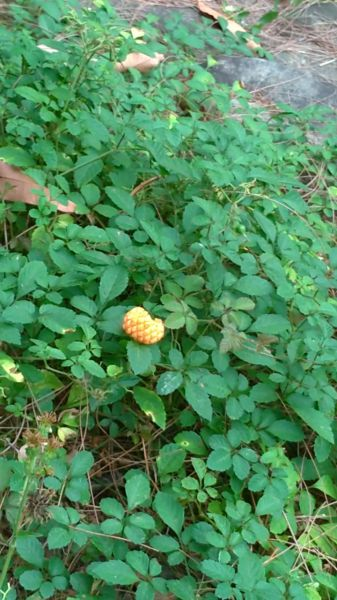eggs: (120, 302, 168, 346)
